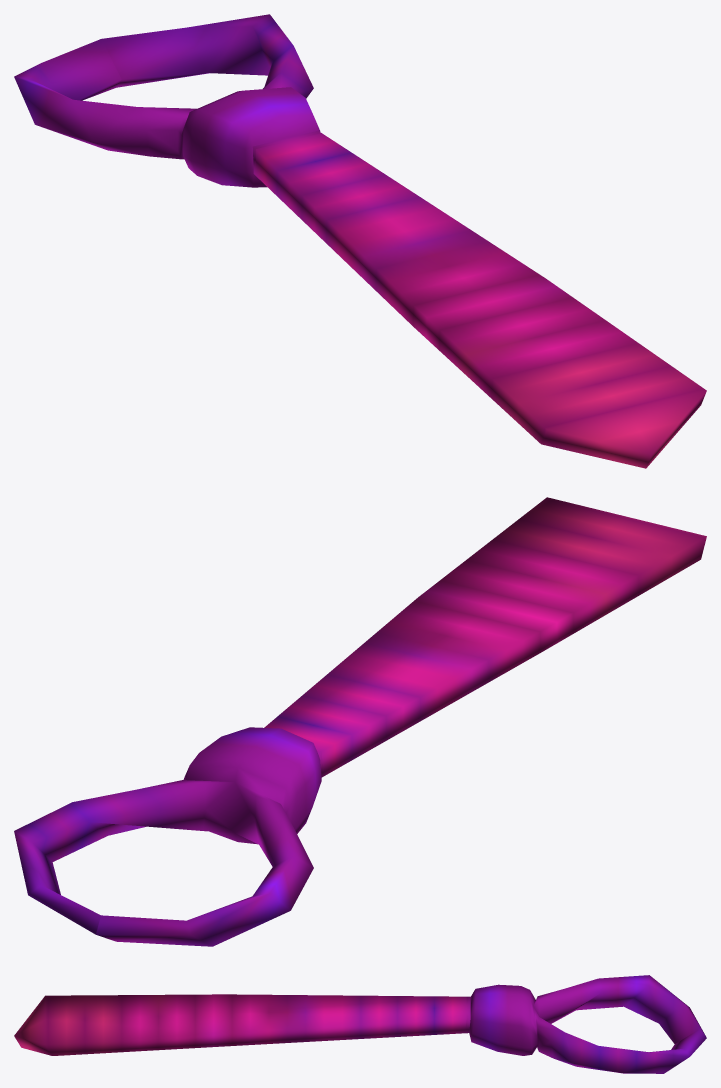
Rendered from tie.glb.
The picture shows the model from 3 angles, top to bottom: view 1: azimuth 30°, elevation 25°; view 2: azimuth 150°, elevation 25°; view 3: azimuth 270°, elevation 25°; orthographic projection. The views are drawn at different scales.
Visible parts, largest first — view 1: tie; view 2: tie; view 3: tie.
Boxes of the visible parts, x1,y1,x2,y2 form: tie: (14, 14, 706, 468); tie: (14, 497, 706, 946); tie: (14, 975, 706, 1073).
Bounding box in the file's own units: 0.3757 × 0.1331 × 1.41.
Materials: 1 (1 with a texture image).
